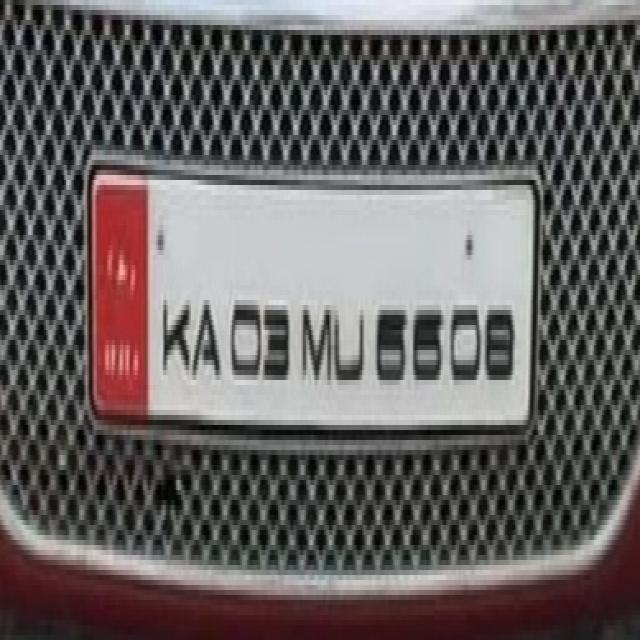0: (447, 287, 486, 400), (230, 289, 263, 389)
3: (262, 289, 294, 401)
6: (411, 281, 446, 405), (374, 289, 410, 400)
8: (482, 281, 516, 394)
A: (192, 277, 224, 398)
K: (160, 276, 190, 382)
M: (298, 289, 332, 395)
U: (332, 285, 368, 395)
